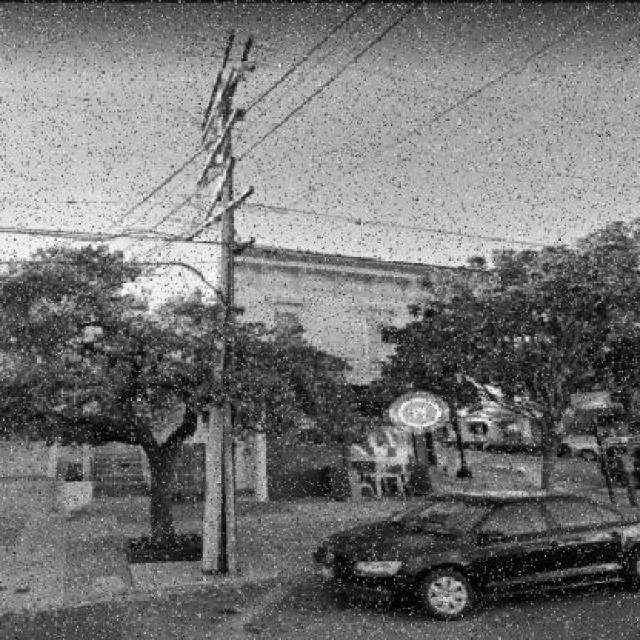pole: (132, 10, 276, 578)
